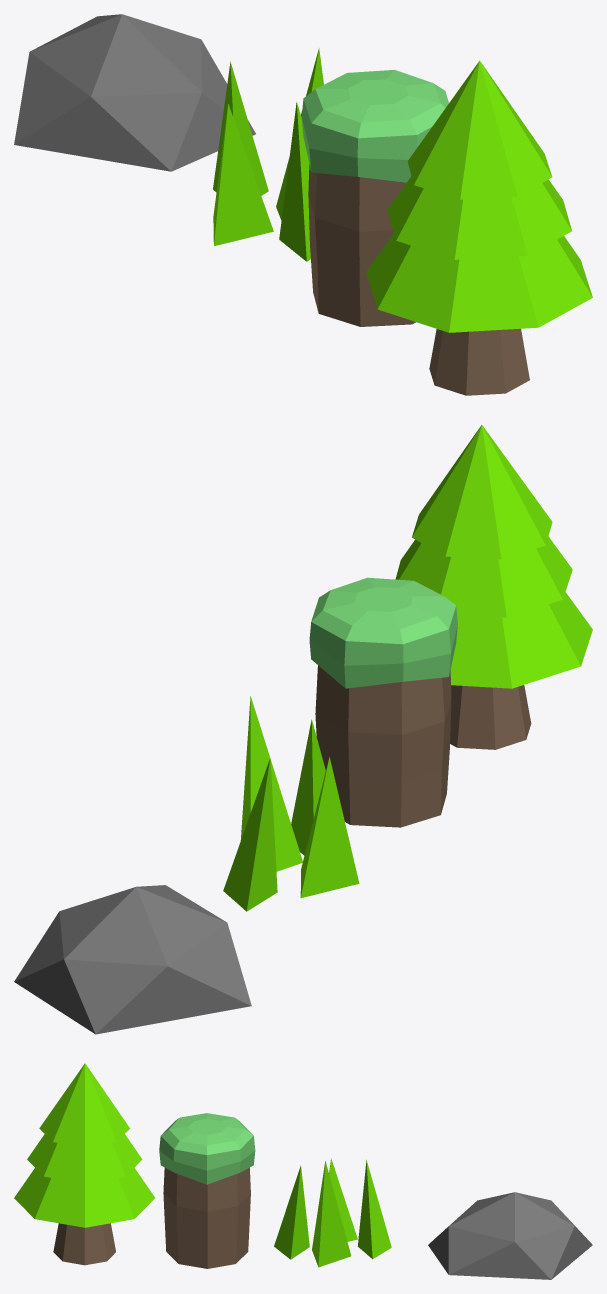
The model's file is Low_Poly_Terrain_Asset_Pack.glb.
3 renders of one model, top to bottom at view 1: azimuth 30°, elevation 25°; view 2: azimuth 150°, elevation 25°; view 3: azimuth 270°, elevation 25°, orthographic. The views are drawn at different scales.
Parts seen in each view (by area): view 1: Tree_Material.006_0, Rock_Material.001_0, Terrain_Material.004_0, Terrain_Material.003_0, Grass_Material.002_0, Tree_Material.005_0; view 2: Tree_Material.006_0, Rock_Material.001_0, Terrain_Material.003_0, Grass_Material.002_0, Terrain_Material.004_0, Tree_Material.005_0; view 3: Tree_Material.006_0, Rock_Material.001_0, Terrain_Material.003_0, Grass_Material.002_0, Terrain_Material.004_0, Tree_Material.005_0.
Part boxes in pixels (x1,y1,x2,y2): Tree_Material.006_0: (366, 60, 592, 332); Rock_Material.001_0: (14, 14, 255, 171); Terrain_Material.004_0: (301, 70, 448, 182); Terrain_Material.003_0: (308, 164, 415, 326); Grass_Material.002_0: (213, 48, 323, 261); Tree_Material.005_0: (429, 328, 529, 395); Tree_Material.006_0: (395, 425, 592, 688); Rock_Material.001_0: (14, 885, 251, 1034); Terrain_Material.003_0: (315, 665, 451, 827); Grass_Material.002_0: (223, 696, 359, 911); Terrain_Material.004_0: (309, 577, 457, 688); Tree_Material.005_0: (450, 685, 531, 749); Tree_Material.006_0: (14, 1063, 154, 1227); Rock_Material.001_0: (428, 1192, 592, 1279); Terrain_Material.003_0: (163, 1167, 250, 1268); Grass_Material.002_0: (274, 1158, 391, 1267); Terrain_Material.004_0: (159, 1113, 255, 1184); Tree_Material.005_0: (53, 1223, 115, 1265).
Size of the model in its own units: 3.67 by 5.11 by 14.18.
